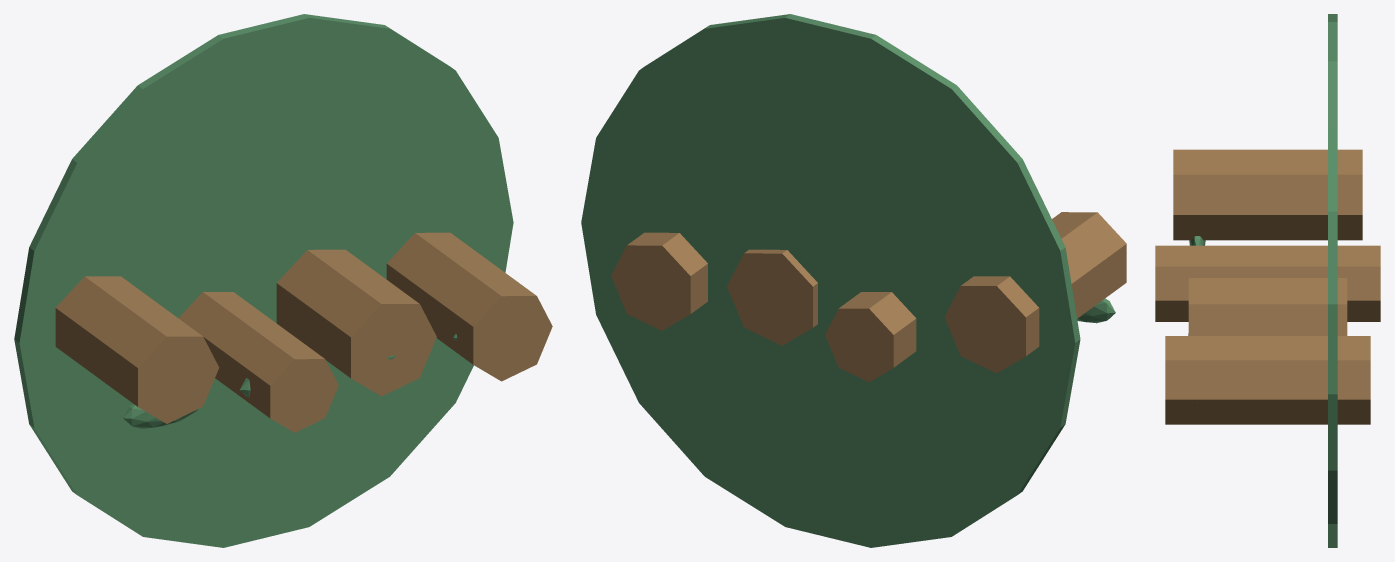
File: 02_local_prop_cluster.glb
3 views of the same model, side by side, from view 1: azimuth 30°, elevation 25°; view 2: azimuth 150°, elevation 25°; view 3: azimuth 270°, elevation 25° (orthographic). The views are drawn at different scales.
Visible parts, largest first — view 1: scatter_base, root_stump_2, root_stump_0, root_stump_3, root_stump_1, moss_0; view 2: scatter_base, root_stump_0, root_stump_3, root_stump_2, root_stump_1; view 3: root_stump_3, root_stump_0, root_stump_1, root_stump_2, scatter_base.
Boxes of the visible parts, x1,y1,x2,y2 form: scatter_base: [14, 14, 513, 547]; root_stump_2: [276, 249, 436, 396]; root_stump_0: [55, 276, 219, 423]; root_stump_3: [386, 232, 552, 381]; root_stump_1: [178, 292, 338, 432]; moss_0: [123, 404, 198, 428]; scatter_base: [581, 14, 1080, 547]; root_stump_0: [944, 212, 1126, 373]; root_stump_3: [611, 232, 707, 330]; root_stump_2: [727, 249, 817, 345]; root_stump_1: [825, 292, 916, 382]; root_stump_3: [1165, 336, 1370, 424]; root_stump_0: [1173, 149, 1362, 240]; root_stump_1: [1155, 245, 1380, 321]; root_stump_2: [1188, 278, 1347, 335]; scatter_base: [1328, 14, 1337, 547].
Bounding box in the file's own units: 1.9 × 1.87 × 0.7983.
